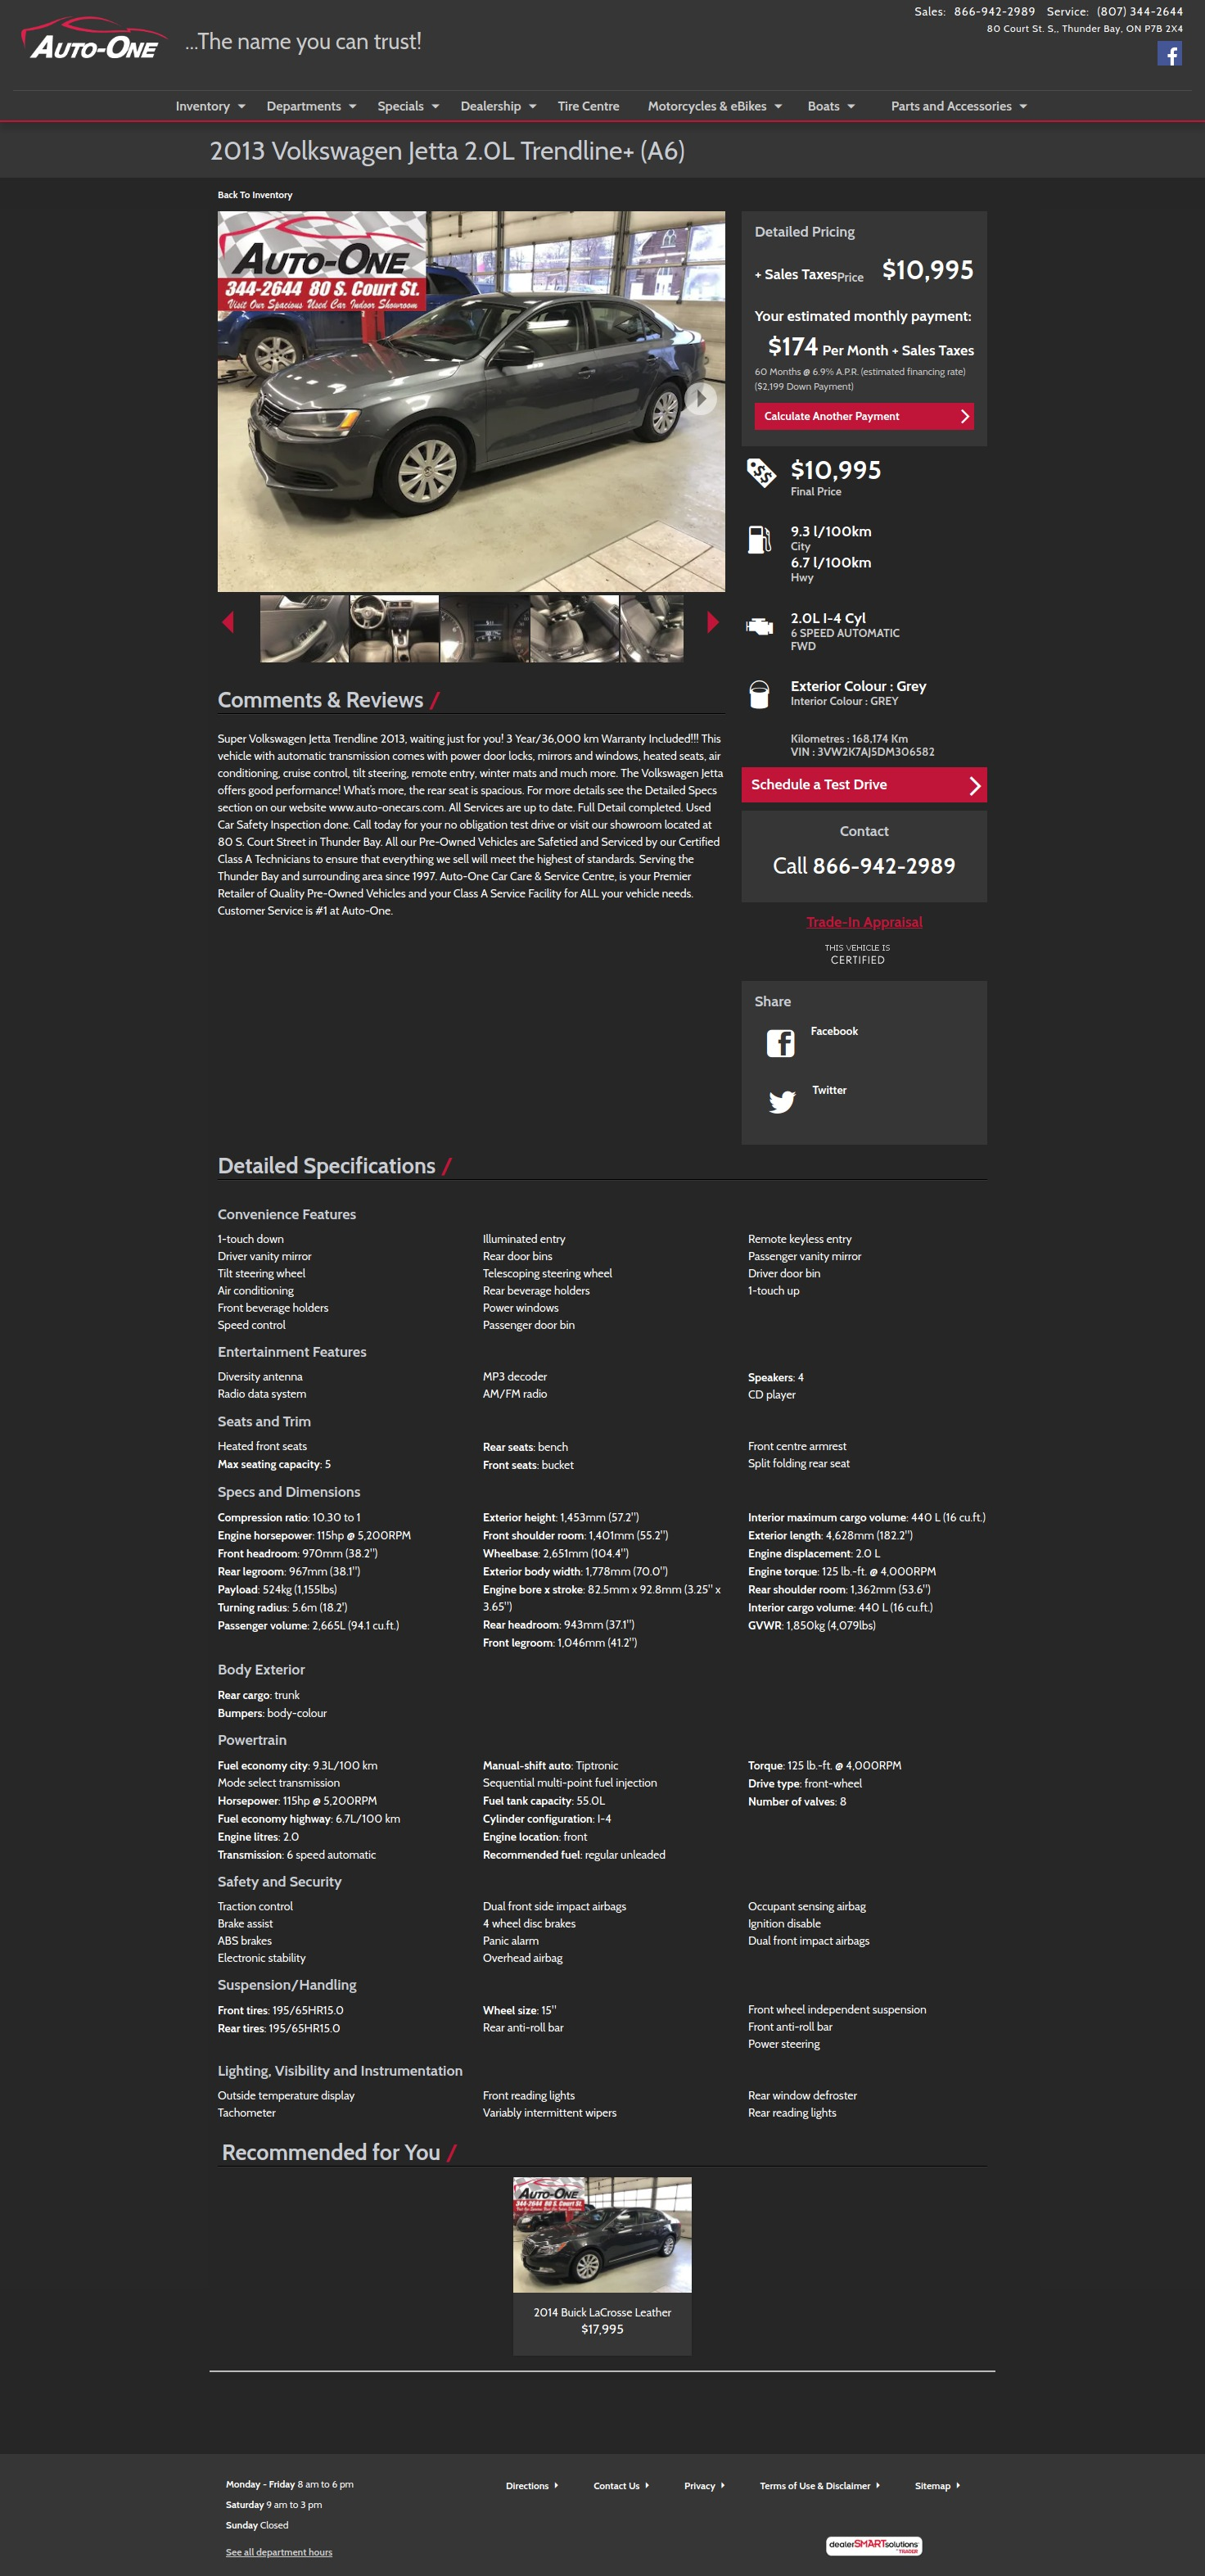car: (704, 611, 719, 634)
